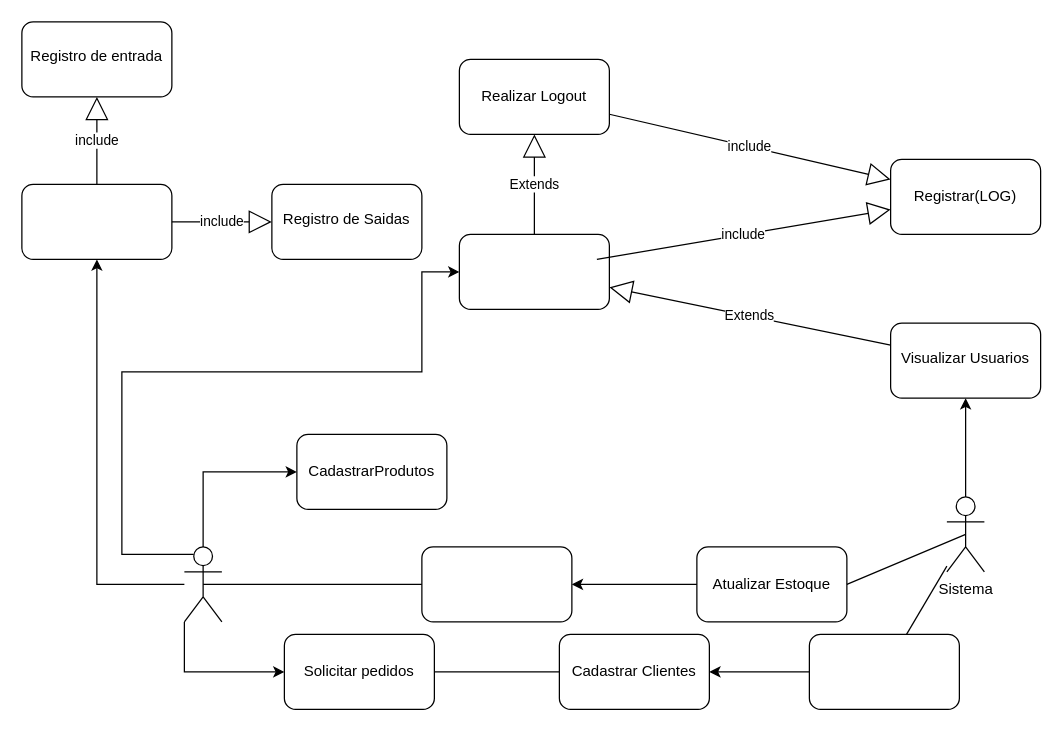
Image size: 1063x731. Some labels were removed from this diagram. The box of each missing label's shape, as (x1, y1, x2, y2) in pixels:
Inserir Produto no Estoque: (421, 546, 572, 622)
Obter relatorios: (21, 183, 172, 259)
Realizar Login: (458, 233, 609, 309)
Usúario: (183, 546, 222, 622)
Verificar Pedidos: (808, 633, 959, 709)
